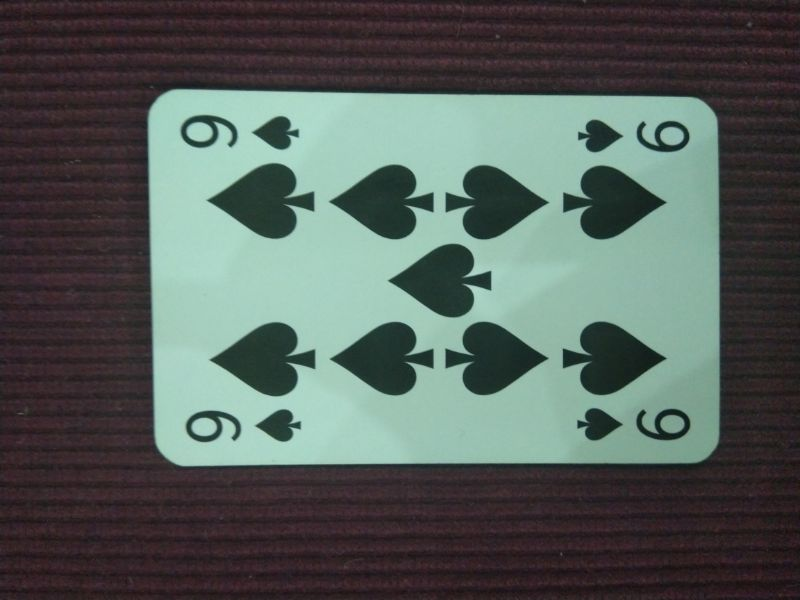9s: (175, 106, 307, 153), (183, 401, 310, 448), (567, 113, 693, 159), (573, 403, 695, 449)
